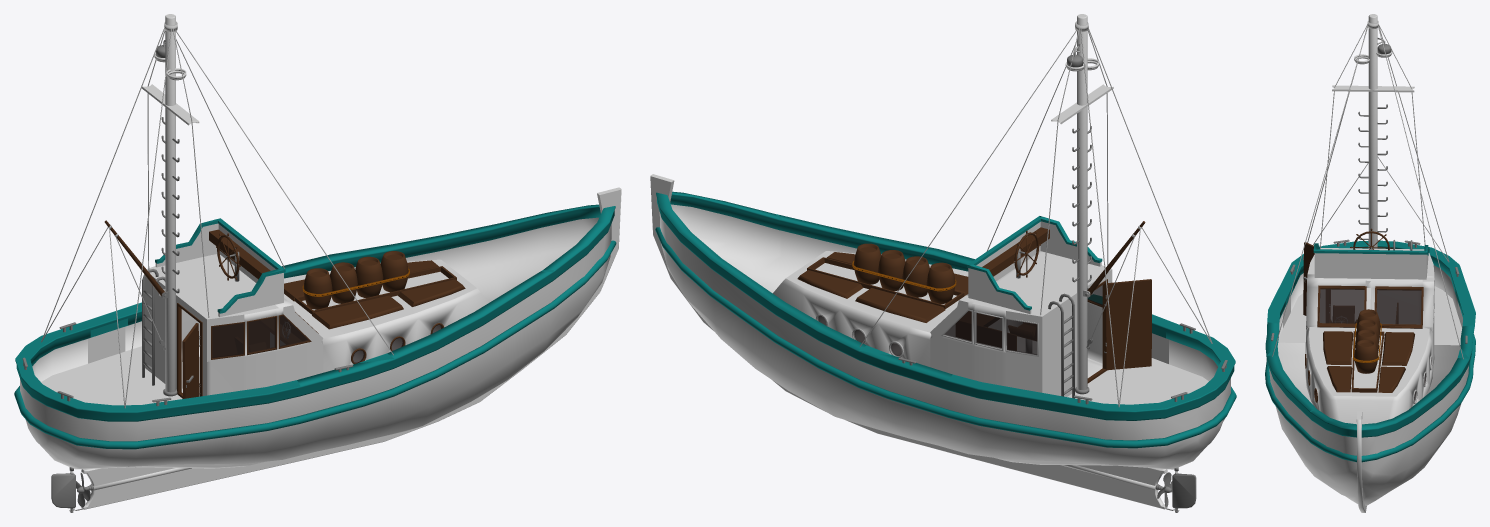
The model's file is ship.dae.
3 views of the same model, side by side, from view 1: azimuth 30°, elevation 25°; view 2: azimuth 150°, elevation 25°; view 3: azimuth 270°, elevation 25° (orthographic). The views are drawn at different scales.
Parts seen in each view (by area): view 1: polySurface3, pCube23, polySurface2, polySurface1, pCylinder30, pCube6, pCube27, pCube9, polySurface34, polySurface35, pCube44, polySurface96.001 (+12 smaller); view 2: polySurface3, pCube23, polySurface2, polySurface1, polySurface96.001, pCylinder30, pCube6, pCube27, polySurface34, pCube9, polySurface35, polySurface80 (+11 smaller); view 3: polySurface3, pCube23, polySurface2, pCube27, polySurface34, pCylinder30, polySurface1, polySurface7, polySurface5, pCylinder73, polySurface54, polySurface35 (+15 smaller).
Part boxes in pixels (<box>): polySurface3: <box>20,217,611,469</box>; pCube23: <box>145,254,489,396</box>; polySurface2: <box>15,204,615,421</box>; polySurface1: <box>14,240,616,449</box>; pCylinder30: <box>165,14,175,392</box>; pCube6: <box>81,466,242,509</box>; pCube27: <box>284,260,465,329</box>; pCube9: <box>242,187,621,473</box>; polySurface34: <box>155,223,283,317</box>; polySurface35: <box>155,218,285,313</box>; pCube44: <box>212,321,269,356</box>; polySurface96.001: <box>182,323,200,398</box>; polySurface3: <box>659,204,1230,469</box>; pCube23: <box>773,251,1112,396</box>; polySurface2: <box>656,191,1235,420</box>; polySurface1: <box>655,227,1236,448</box>; polySurface96.001: <box>1105,279,1151,370</box>; pCylinder30: <box>1077,14,1087,389</box>; pCube6: <box>1013,462,1167,509</box>; pCube27: <box>797,252,968,322</box>; polySurface34: <box>968,221,1101,313</box>; pCube9: <box>650,174,1012,469</box>; polySurface35: <box>967,216,1102,310</box>; polySurface80: <box>1006,319,1037,355</box>; polySurface3: <box>1269,265,1468,505</box>; pCube23: <box>1305,248,1434,424</box>; polySurface2: <box>1265,240,1475,437</box>; pCube27: <box>1323,331,1414,392</box>; polySurface34: <box>1314,253,1428,279</box>; pCylinder30: <box>1368,14,1377,248</box>; polySurface1: <box>1265,334,1475,462</box>; polySurface7: <box>1376,289,1421,328</box>; polySurface5: <box>1318,288,1364,327</box>; pCylinder73: <box>1354,339,1378,373</box>; polySurface54: <box>1320,24,1425,249</box>; polySurface35: <box>1313,243,1429,255</box>.
Size of the model in its own units: 9.73 by 3.71 by 7.6.
